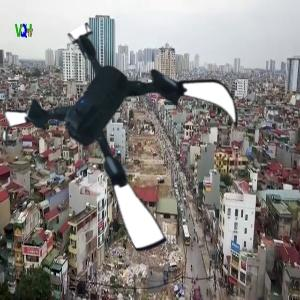drone: (11, 20, 242, 251)
